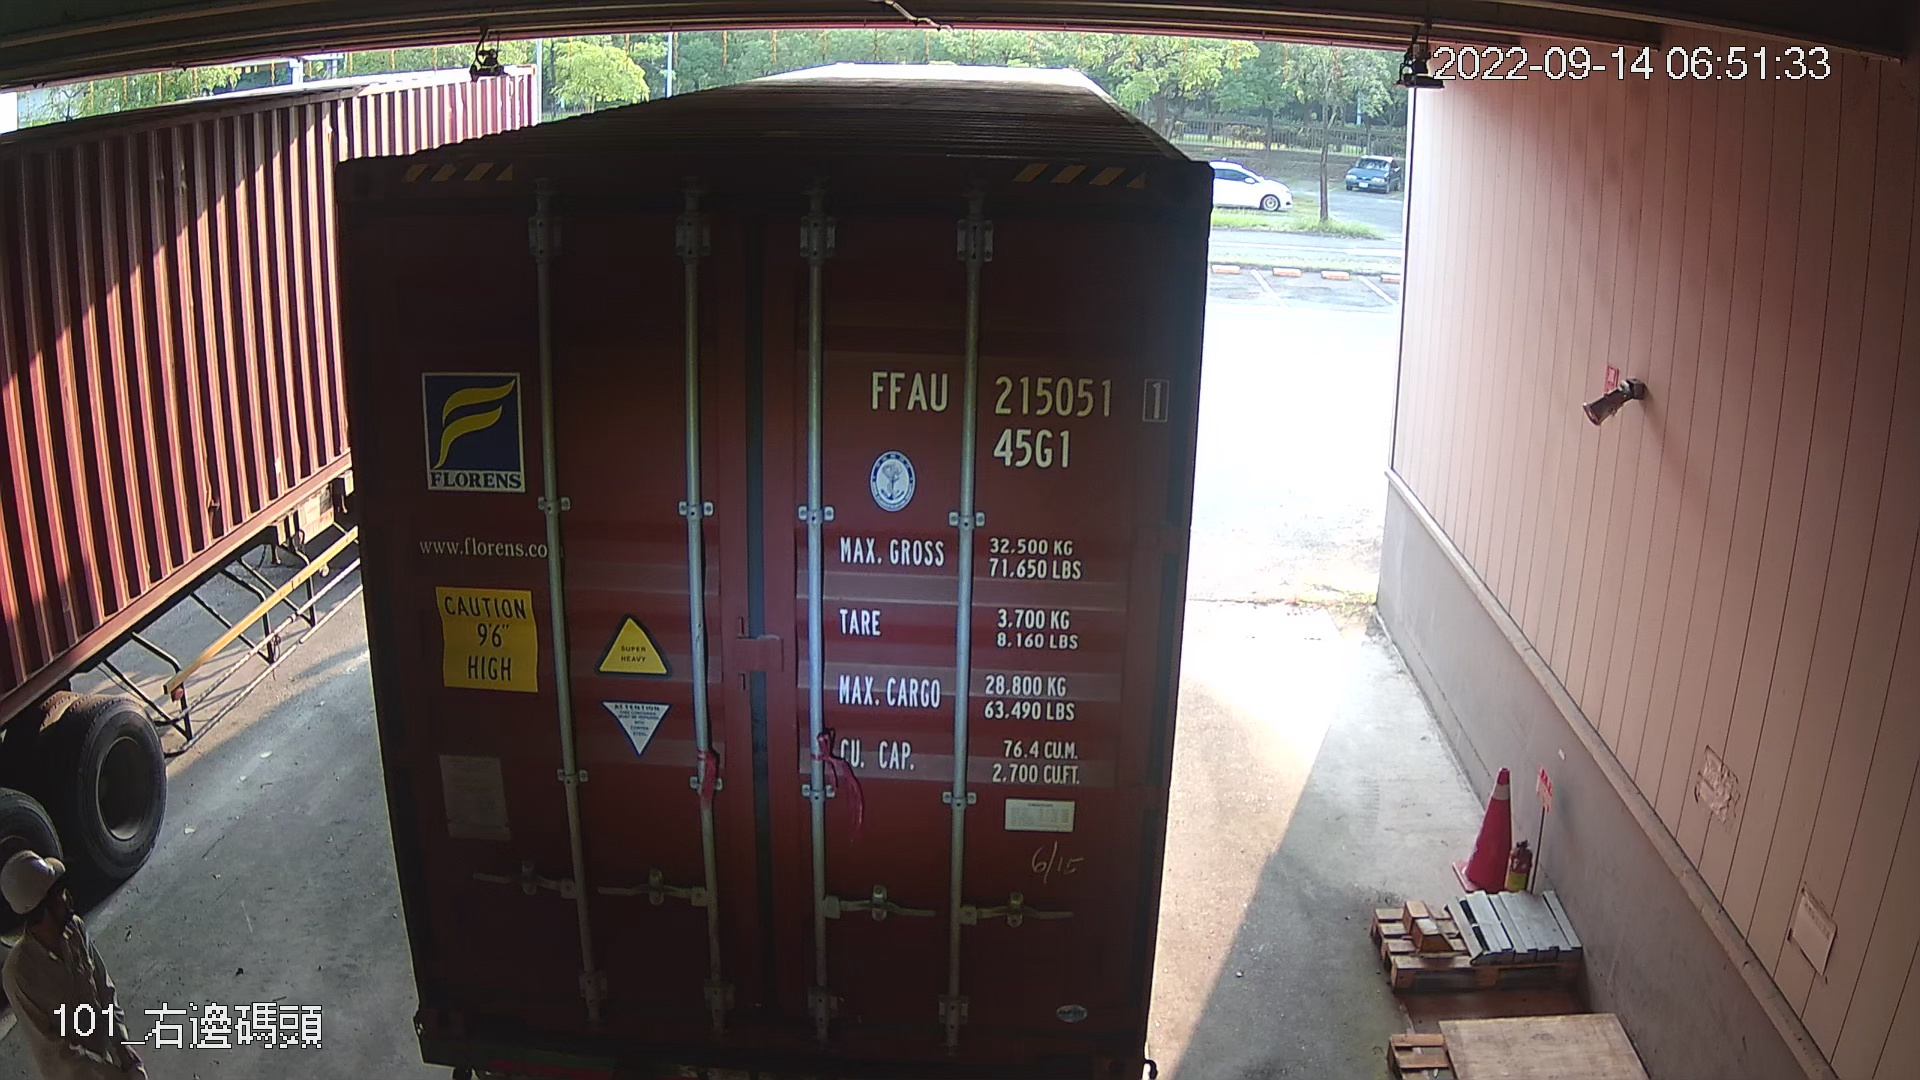container: (857, 361, 1179, 477)
